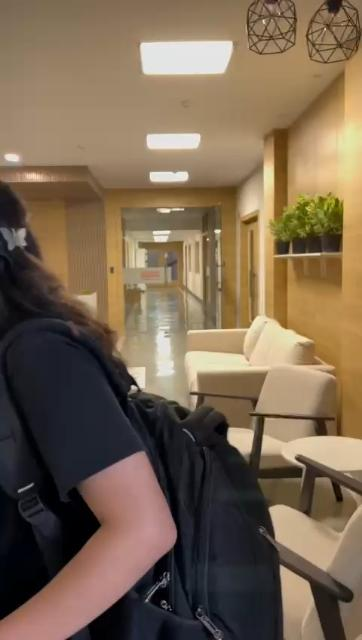moving-obj: (0, 188, 280, 640)
object: (275, 450, 362, 639), (180, 323, 352, 417)
